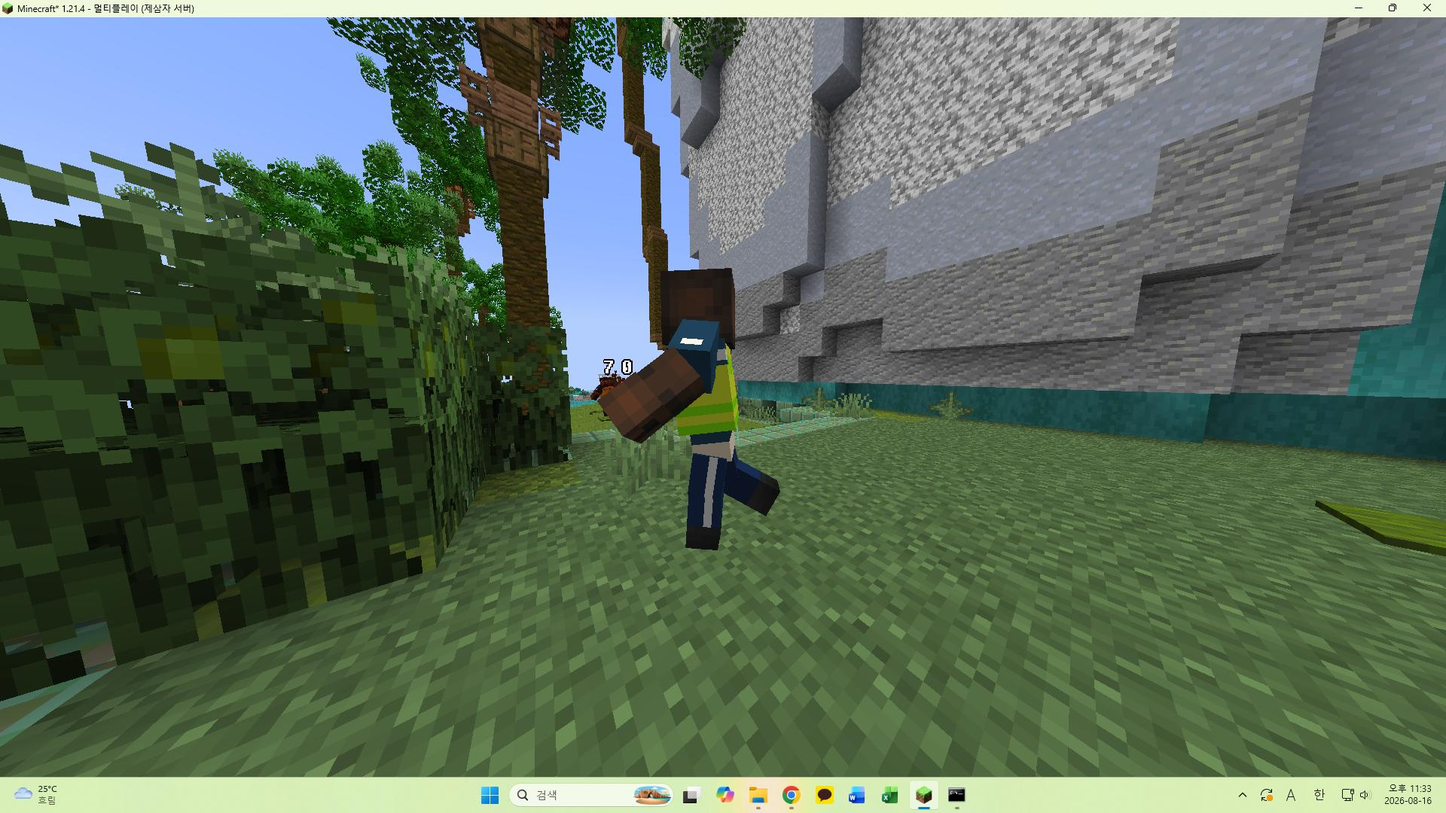Guardian: (599, 269, 779, 550)
